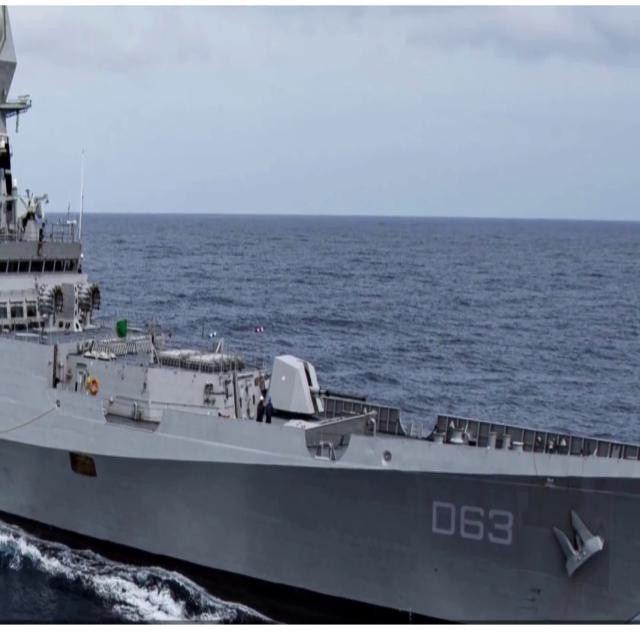OCR: (427, 496, 518, 562)
